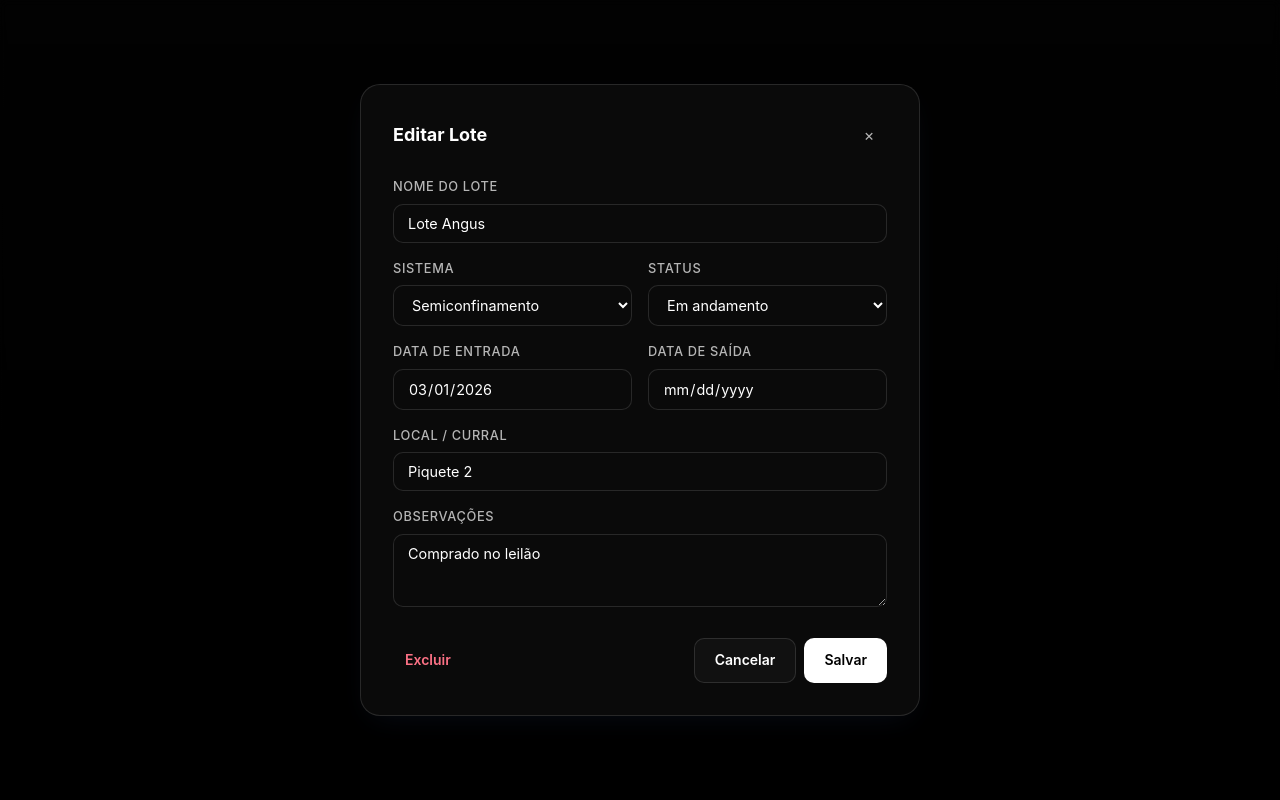
Test: CattleLotModal › shows the field error returned by the API and stays open
Click the button "Salvar". click: (846, 660)
box: [804,638,887,683]
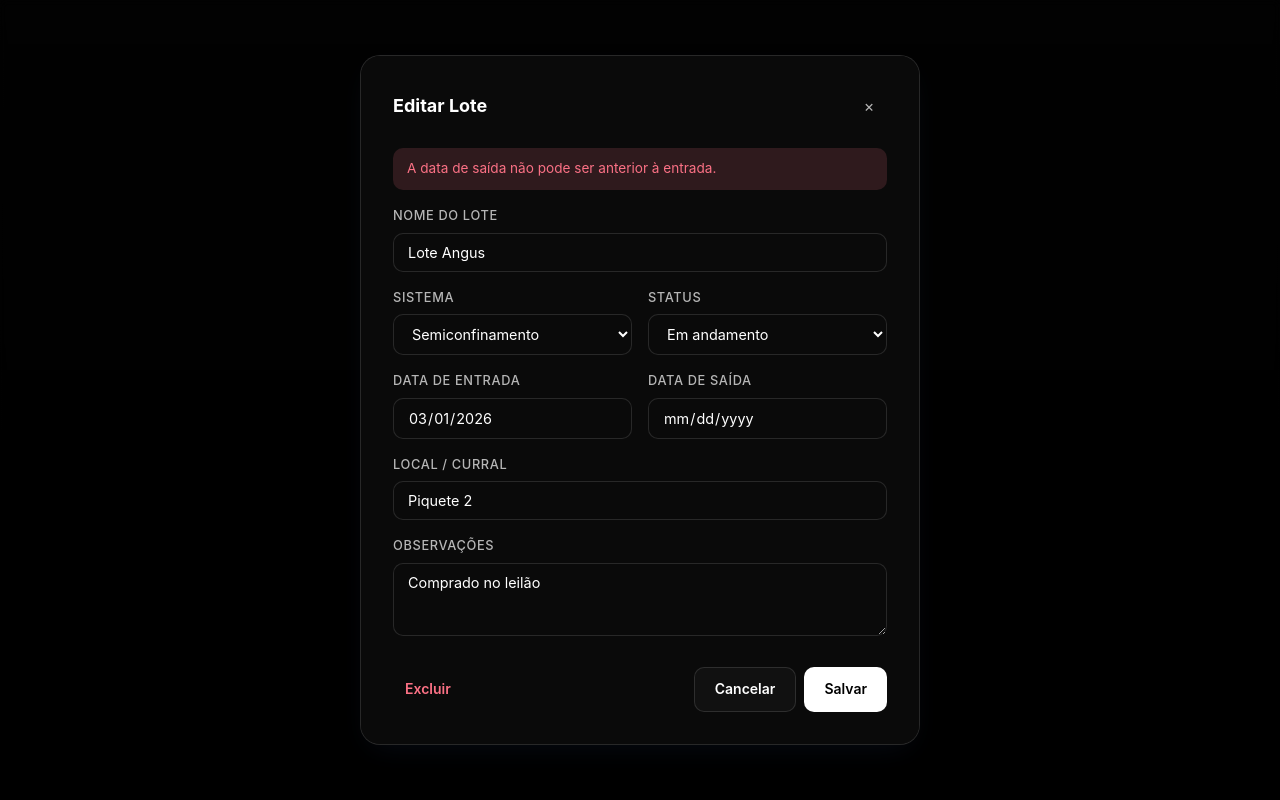
Expected: the button "Salvar" is enabled, [804,667,887,712]
Result: the text "A data de saída não pode ser anterior à entrada." is shown at [393,148,887,190]
